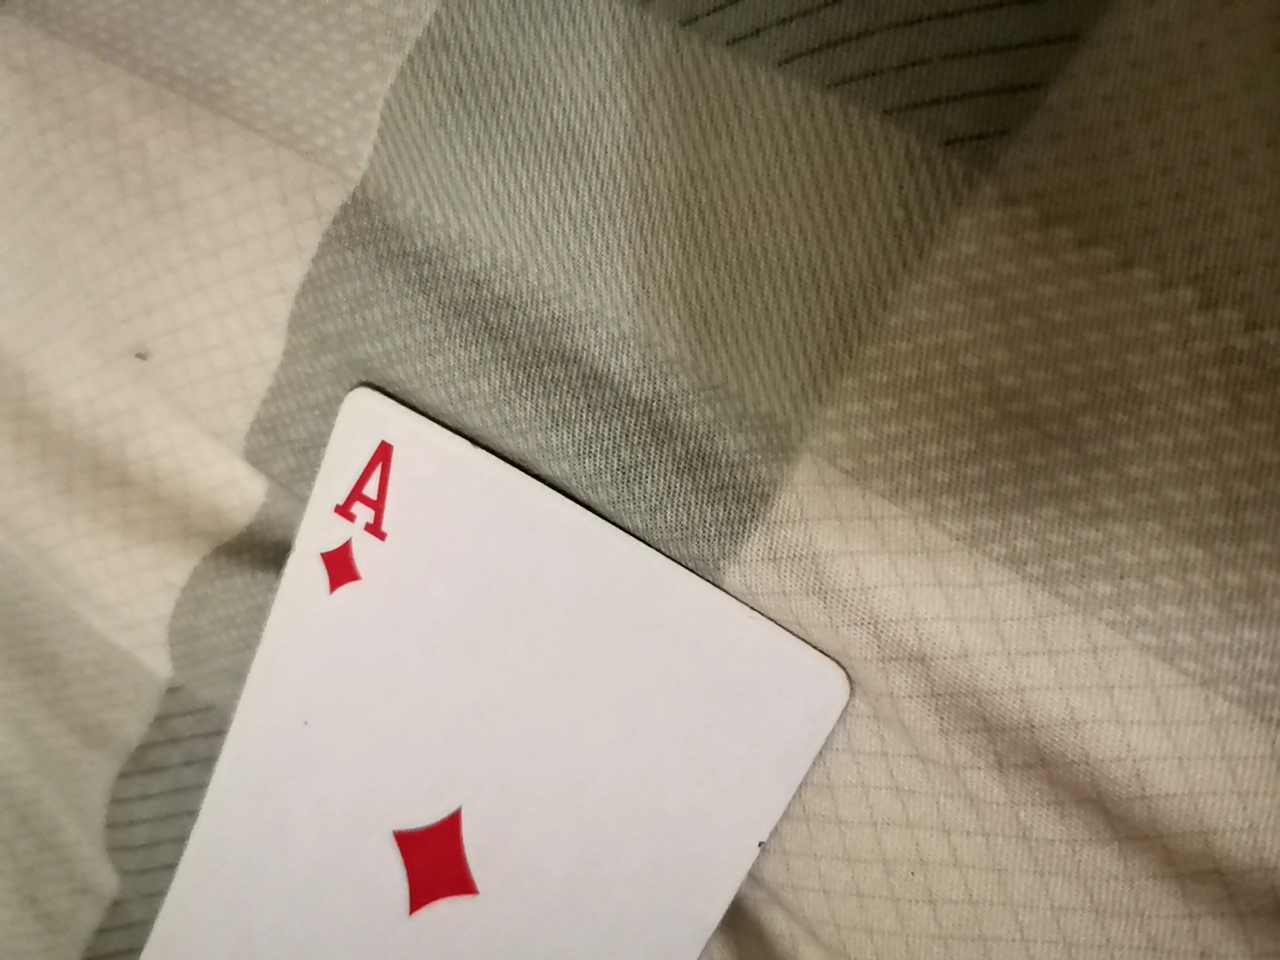fk a: (67, 385, 869, 960)
